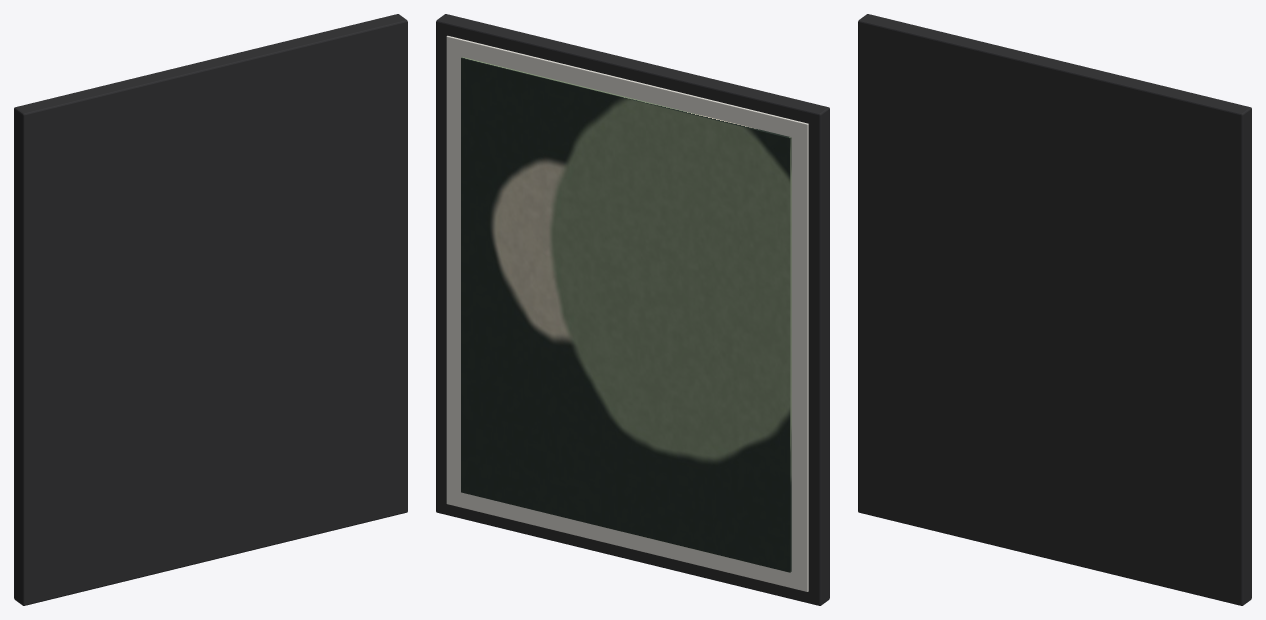
File: study_art.glb
3 renders of one model, left to right at view 1: azimuth 30°, elevation 25°; view 2: azimuth 150°, elevation 25°; view 3: azimuth 330°, elevation 25°, orthographic.
Parts seen in each view (by area): view 1: study_art; view 2: study_art; view 3: study_art.
Boxes of the visible parts, bbox=[...] form: study_art: bbox=[14, 14, 407, 605]; study_art: bbox=[436, 14, 829, 605]; study_art: bbox=[858, 14, 1251, 605].
Size of the model in its own units: 0.9 by 1.1 by 0.05.
Materials: 3 (1 with a texture image).
